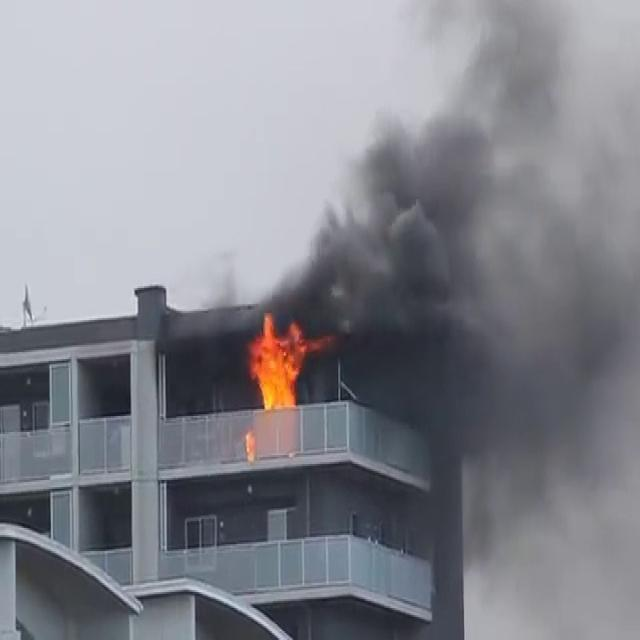Fire: (244, 310, 314, 412)
Smoke: (268, 0, 640, 629), (272, 0, 640, 520)
